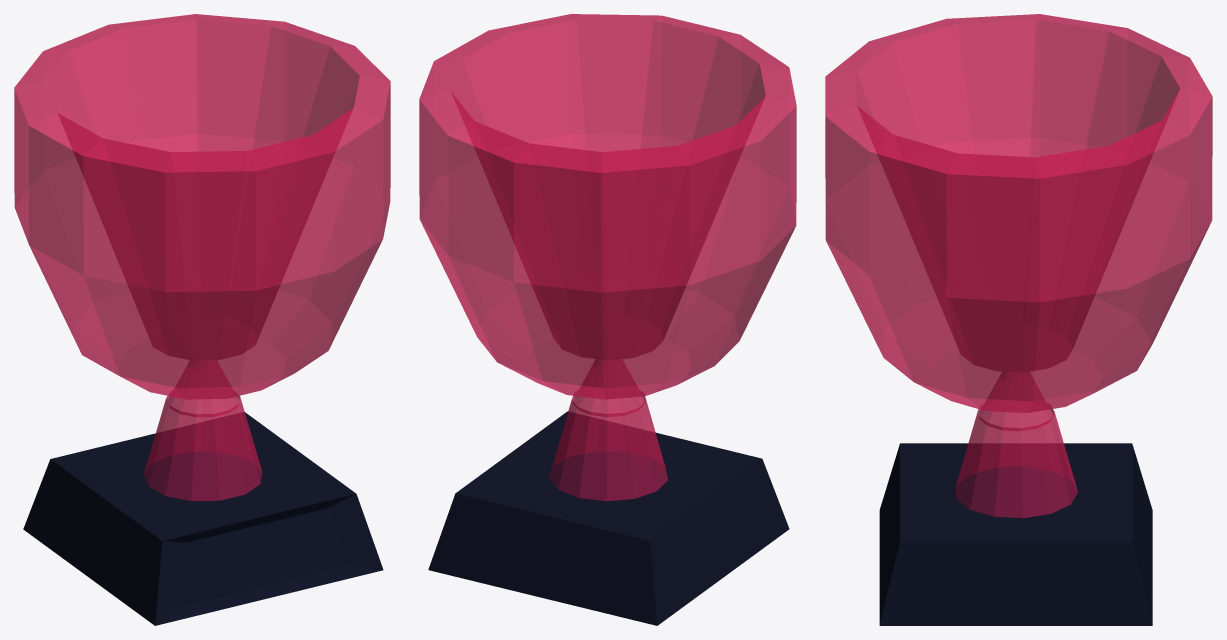
The model's file is DimendMetals.fbx.
3 views of the same model, side by side, from view 1: azimuth 30°, elevation 25°; view 2: azimuth 150°, elevation 25°; view 3: azimuth 270°, elevation 25° (orthographic). The views are drawn at different scales.
Visible parts, largest first — view 1: Cylinder.004, Cube.003; view 2: Cylinder.004, Cube.003; view 3: Cylinder.004, Cube.003.
Part boxes in pixels (left/top/right/bottom): Cylinder.004: left=14, top=14, right=390, bottom=501; Cube.003: left=23, top=412, right=383, bottom=625; Cylinder.004: left=419, top=14, right=796, bottom=501; Cube.003: left=428, top=411, right=789, bottom=625; Cylinder.004: left=825, top=14, right=1212, bottom=518; Cube.003: left=879, top=443, right=1152, bottom=625.
Bounding box in the file's own units: 286 × 387 × 283.
